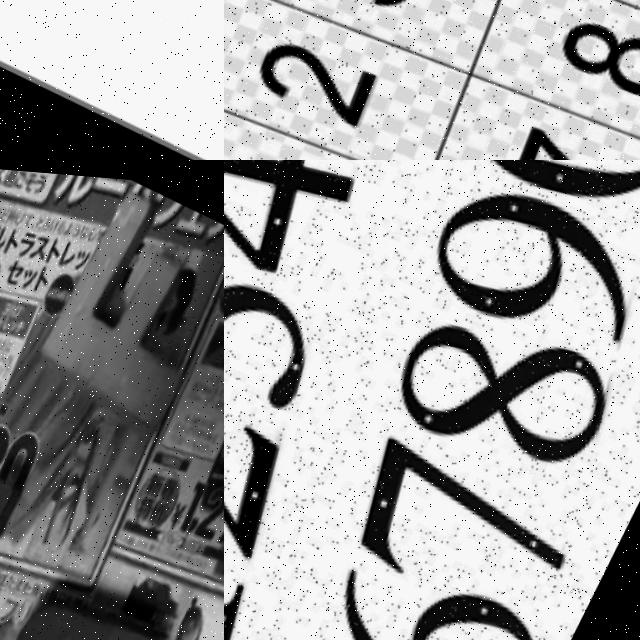0: (425, 160, 640, 247)
1: (224, 492, 278, 640)
2: (224, 343, 322, 598), (243, 14, 402, 153)
3: (224, 209, 354, 451), (281, 0, 442, 31)
4: (224, 160, 395, 329)
6: (302, 513, 589, 640)
7: (326, 386, 619, 640), (505, 106, 640, 160)
8: (366, 262, 640, 506), (545, 0, 640, 116)
9: (400, 160, 640, 378)
D: (0, 571, 192, 640)
F: (35, 175, 224, 417)
